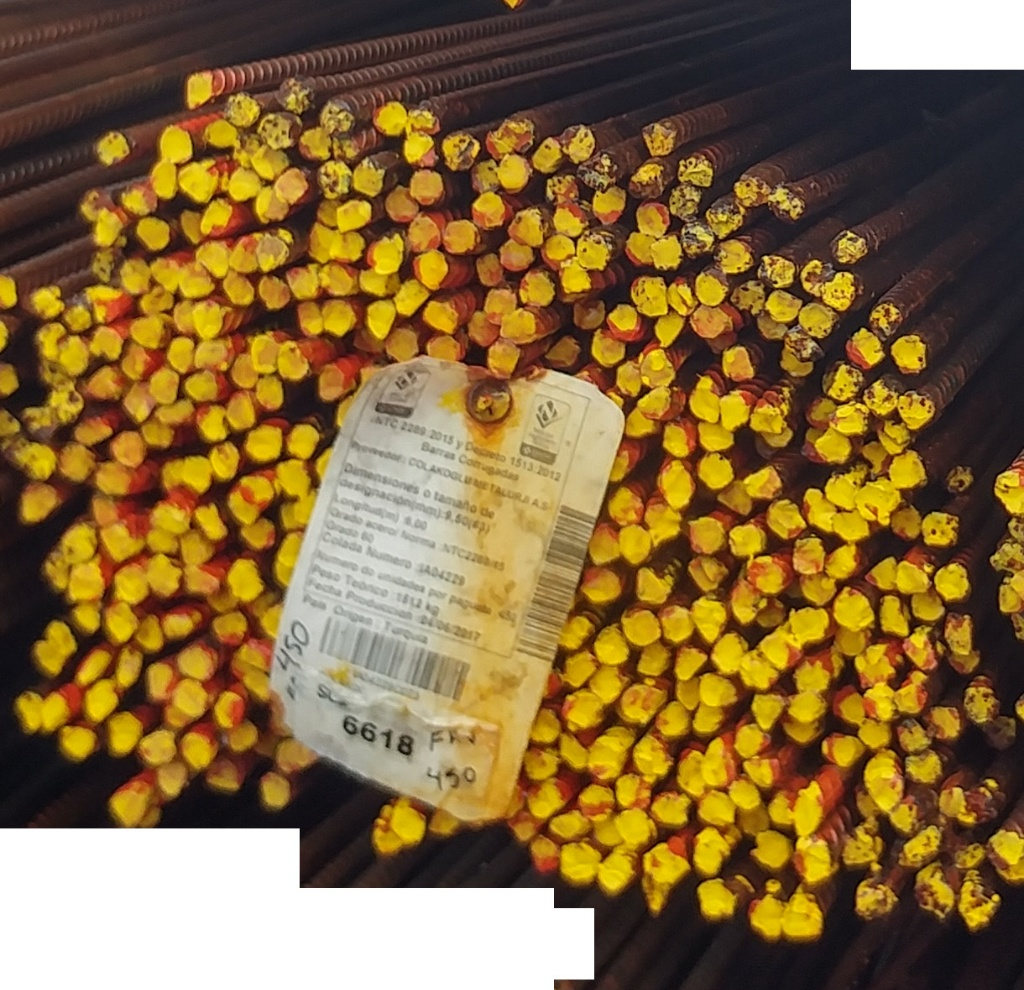dipstick: (759, 625, 803, 670), (901, 625, 944, 671), (699, 739, 740, 787), (487, 115, 533, 157), (228, 478, 271, 522), (897, 827, 942, 868), (620, 682, 664, 723), (834, 587, 875, 631), (163, 456, 210, 494), (794, 837, 834, 881), (642, 501, 681, 546), (751, 828, 791, 870), (782, 791, 822, 833), (957, 892, 1000, 930), (100, 525, 145, 561), (692, 597, 728, 642), (21, 484, 61, 524), (854, 644, 894, 684), (580, 154, 621, 193), (914, 876, 953, 917), (443, 129, 481, 171), (746, 555, 790, 591), (228, 559, 266, 600), (956, 784, 994, 825), (748, 897, 785, 939), (855, 884, 898, 920), (588, 739, 626, 779), (615, 810, 657, 846), (177, 163, 216, 201), (58, 443, 97, 481), (658, 466, 696, 505), (560, 843, 599, 881), (698, 879, 737, 917), (845, 330, 885, 367), (987, 829, 1024, 869), (108, 712, 143, 754), (244, 425, 282, 463), (824, 362, 862, 400), (789, 605, 828, 642), (587, 667, 627, 703), (563, 692, 603, 728), (831, 684, 867, 724), (842, 827, 882, 863), (575, 230, 610, 271), (864, 773, 905, 808), (780, 328, 822, 362), (634, 736, 671, 774), (887, 451, 925, 488), (643, 845, 682, 881), (620, 610, 660, 645), (712, 634, 747, 674), (599, 853, 634, 893), (580, 567, 621, 601), (556, 261, 593, 298), (368, 234, 404, 272), (321, 299, 357, 337), (390, 806, 426, 844), (688, 555, 726, 591), (875, 417, 913, 453), (605, 304, 644, 339), (822, 272, 857, 311), (934, 563, 969, 602), (899, 390, 934, 429), (633, 276, 667, 316), (877, 596, 911, 636), (637, 387, 680, 418), (195, 403, 231, 440), (509, 211, 545, 248), (768, 501, 805, 537), (259, 112, 298, 146), (147, 555, 181, 594), (159, 124, 192, 164), (409, 169, 445, 205), (608, 488, 644, 524), (578, 784, 614, 820), (252, 145, 289, 180), (139, 731, 176, 766), (414, 251, 449, 288), (629, 164, 666, 199), (668, 185, 705, 220), (767, 184, 804, 219), (589, 327, 624, 364), (593, 627, 628, 664), (560, 649, 595, 686), (861, 683, 898, 718), (614, 774, 652, 808), (278, 341, 311, 380), (705, 203, 744, 236), (798, 302, 837, 335), (255, 187, 290, 223), (686, 516, 722, 551), (657, 702, 693, 737), (793, 657, 828, 693), (923, 512, 959, 547), (591, 187, 625, 224), (697, 454, 734, 488), (924, 706, 961, 740), (652, 792, 690, 825), (961, 691, 999, 724), (484, 287, 516, 326), (699, 674, 739, 705), (903, 751, 943, 782), (996, 471, 1024, 515), (359, 265, 400, 295), (280, 78, 315, 113), (256, 235, 291, 270), (21, 444, 56, 479), (61, 726, 96, 761), (318, 161, 352, 197), (179, 264, 215, 298), (182, 733, 216, 769), (404, 132, 438, 168), (639, 351, 675, 385), (658, 607, 694, 641), (735, 724, 771, 758), (71, 564, 104, 601), (529, 137, 562, 174), (744, 464, 781, 497), (892, 503, 925, 540), (895, 718, 932, 751), (944, 613, 973, 655), (120, 184, 158, 216), (116, 564, 148, 602), (87, 679, 117, 719), (689, 307, 729, 337), (751, 693, 785, 728), (525, 744, 559, 779), (174, 680, 207, 716), (178, 646, 215, 678), (618, 526, 650, 563), (792, 537, 824, 574), (697, 792, 734, 824), (259, 772, 290, 810), (423, 302, 461, 333), (547, 812, 590, 839), (786, 691, 826, 720), (90, 366, 124, 400), (761, 254, 795, 288), (867, 558, 901, 592), (858, 715, 892, 749), (887, 801, 921, 835), (199, 241, 232, 276), (278, 460, 313, 493), (63, 524, 96, 559), (501, 309, 536, 342), (553, 203, 588, 236), (637, 202, 670, 237), (626, 231, 659, 266), (816, 429, 851, 462), (663, 423, 698, 456), (673, 646, 708, 679), (528, 782, 563, 815), (896, 560, 931, 593), (385, 186, 417, 222), (319, 263, 355, 295), (60, 335, 92, 371), (183, 562, 220, 593), (518, 273, 555, 304), (911, 589, 948, 620), (353, 158, 383, 196), (227, 391, 257, 429), (105, 605, 135, 643), (320, 101, 353, 135), (229, 166, 262, 200), (50, 387, 84, 420), (407, 219, 441, 252), (821, 733, 855, 766), (202, 199, 234, 234), (114, 431, 146, 466), (832, 232, 867, 264), (717, 240, 752, 272), (543, 335, 578, 367), (721, 345, 753, 380), (826, 543, 861, 575), (742, 756, 782, 784), (289, 423, 320, 459), (152, 501, 188, 532), (764, 291, 800, 322), (209, 441, 239, 478), (562, 125, 592, 162), (251, 335, 280, 373), (695, 420, 733, 449), (591, 524, 619, 563), (274, 169, 307, 202), (338, 199, 371, 232), (195, 505, 228, 538), (213, 611, 246, 644), (472, 193, 505, 226), (486, 342, 519, 375), (227, 93, 259, 127), (445, 220, 477, 254), (734, 176, 769, 207), (716, 394, 747, 429), (150, 161, 178, 199), (124, 381, 152, 419), (373, 101, 405, 134), (499, 238, 531, 271), (693, 272, 725, 305), (636, 568, 669, 600), (894, 681, 927, 713), (151, 258, 182, 292), (111, 793, 145, 824), (543, 235, 574, 269), (394, 278, 421, 317), (146, 662, 173, 701), (330, 231, 365, 261), (76, 418, 113, 446), (215, 691, 243, 728), (368, 300, 395, 338), (300, 128, 332, 160), (386, 329, 418, 361), (118, 347, 150, 379), (730, 524, 762, 556), (529, 708, 561, 740), (288, 266, 321, 297), (870, 304, 901, 337), (46, 622, 76, 656), (472, 159, 502, 193), (500, 155, 530, 189), (689, 386, 719, 420), (98, 131, 127, 166), (233, 354, 262, 389), (195, 302, 224, 337), (241, 518, 276, 547), (469, 310, 498, 345), (16, 692, 43, 729), (138, 217, 169, 249), (92, 494, 123, 526), (98, 462, 129, 494), (210, 759, 242, 790), (642, 125, 674, 156), (827, 476, 859, 507), (727, 778, 759, 809), (228, 238, 258, 271), (667, 282, 697, 315), (750, 402, 783, 432), (121, 258, 150, 292), (95, 210, 123, 245), (678, 158, 713, 186), (138, 614, 164, 651), (833, 512, 870, 538), (651, 236, 682, 267), (638, 646, 669, 677), (259, 275, 289, 307), (118, 646, 142, 686), (31, 288, 63, 318), (572, 300, 604, 330), (693, 843, 725, 873), (223, 274, 256, 303), (476, 254, 505, 287), (151, 369, 179, 403), (613, 362, 641, 396), (296, 301, 323, 336), (733, 280, 764, 310), (806, 397, 836, 428), (132, 318, 164, 347), (256, 375, 284, 408), (167, 337, 195, 370), (180, 533, 213, 561), (187, 74, 214, 108), (203, 120, 237, 147), (179, 209, 206, 243), (372, 825, 402, 855), (92, 326, 121, 357), (693, 705, 724, 734), (319, 364, 343, 401), (186, 372, 217, 400), (163, 610, 194, 638), (868, 382, 895, 413), (158, 401, 194, 424), (142, 420, 173, 446), (197, 342, 229, 367), (71, 606, 100, 633), (82, 189, 107, 220), (317, 200, 345, 227), (997, 584, 1024, 612), (428, 337, 462, 359), (147, 529, 177, 553), (174, 301, 197, 332), (231, 723, 258, 749), (332, 136, 359, 161), (67, 304, 91, 332), (94, 251, 115, 280)
